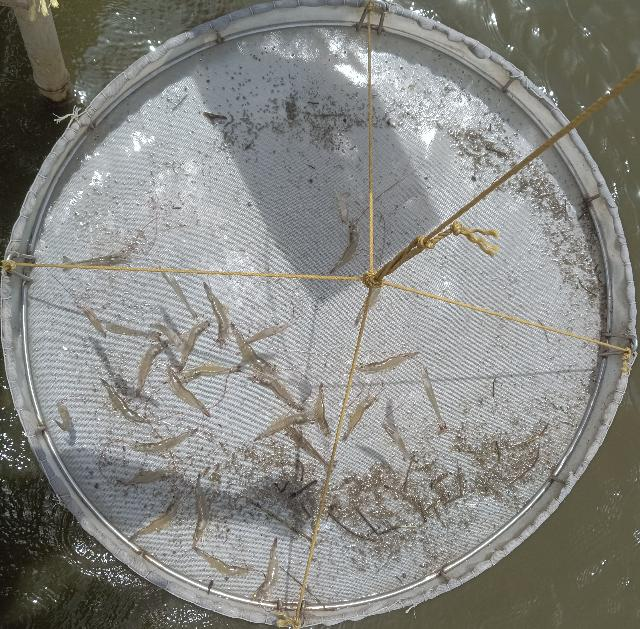shrimp: (128, 491, 180, 541), (285, 427, 339, 474), (231, 323, 280, 372), (101, 379, 149, 423), (168, 367, 210, 417), (130, 428, 198, 456), (250, 376, 304, 410), (136, 341, 168, 397), (251, 539, 279, 602), (254, 412, 314, 441), (192, 548, 252, 577), (179, 321, 213, 371), (342, 396, 379, 441), (204, 282, 229, 348), (329, 219, 358, 274), (62, 249, 131, 271), (355, 352, 421, 372), (193, 474, 209, 547), (178, 366, 242, 384), (116, 469, 182, 485), (314, 382, 332, 436), (246, 324, 289, 345)
